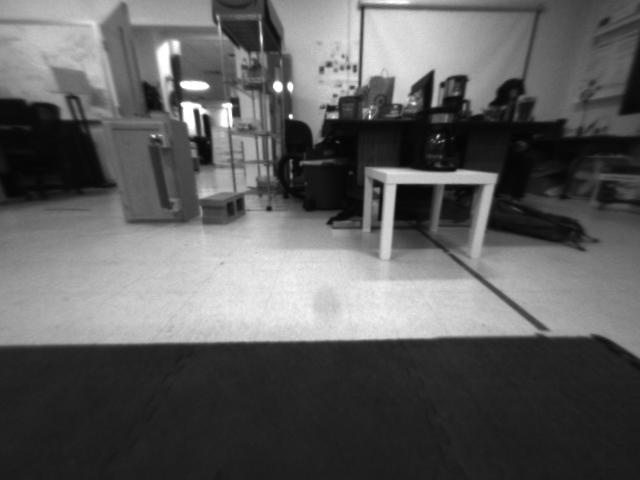coffee_pot: (415, 108, 464, 173)
